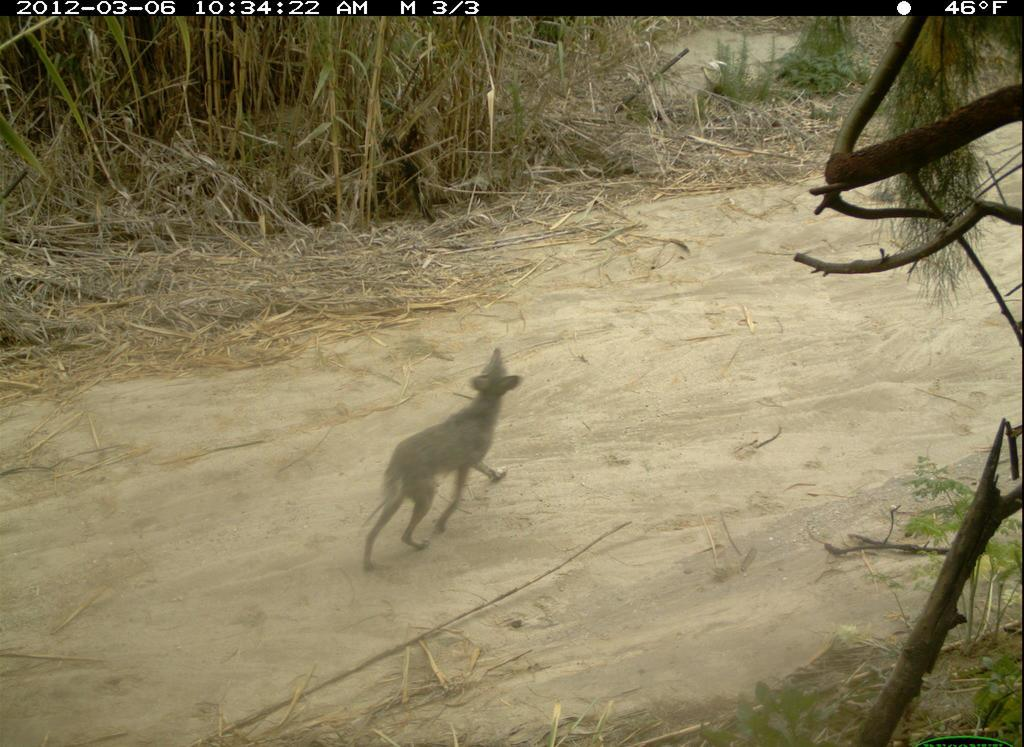coyote: (358, 344, 528, 578)
